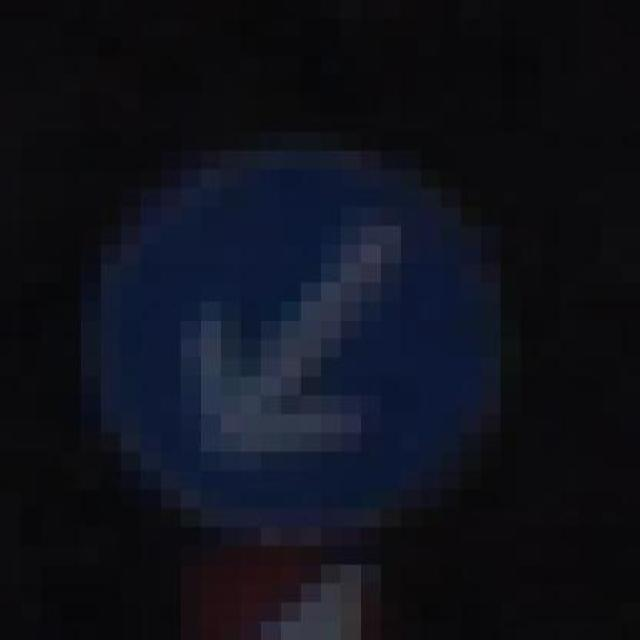Keep-Left: (80, 112, 520, 565)
